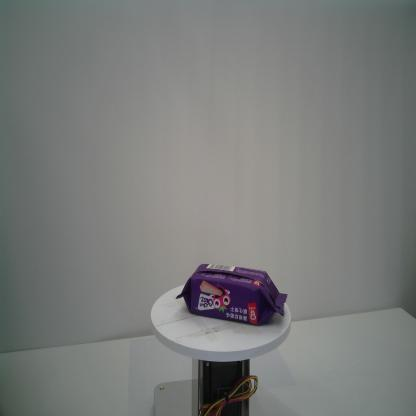Dessert: (175, 263, 288, 326)
